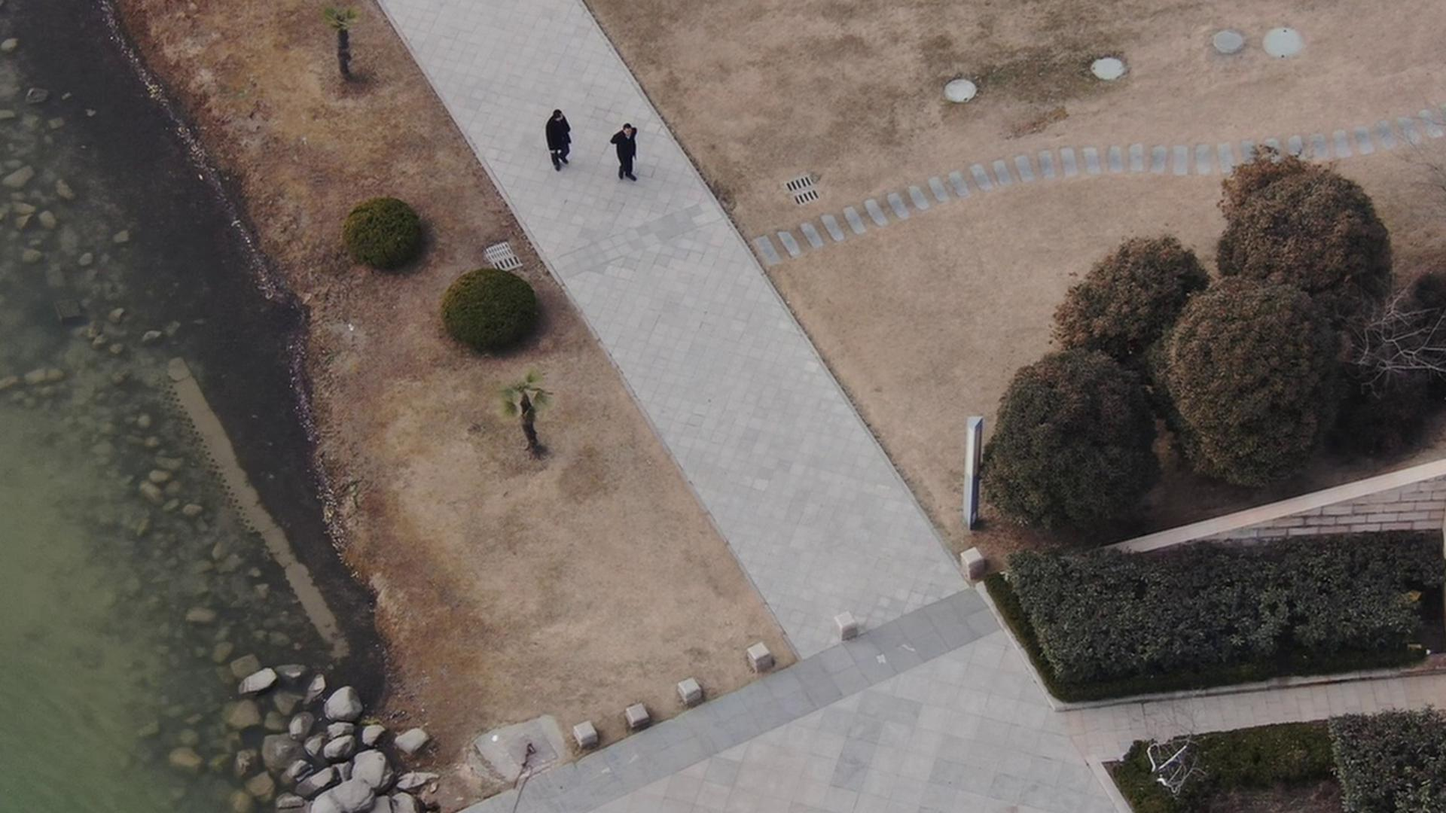human: (514, 93, 564, 179), (586, 110, 629, 196)
